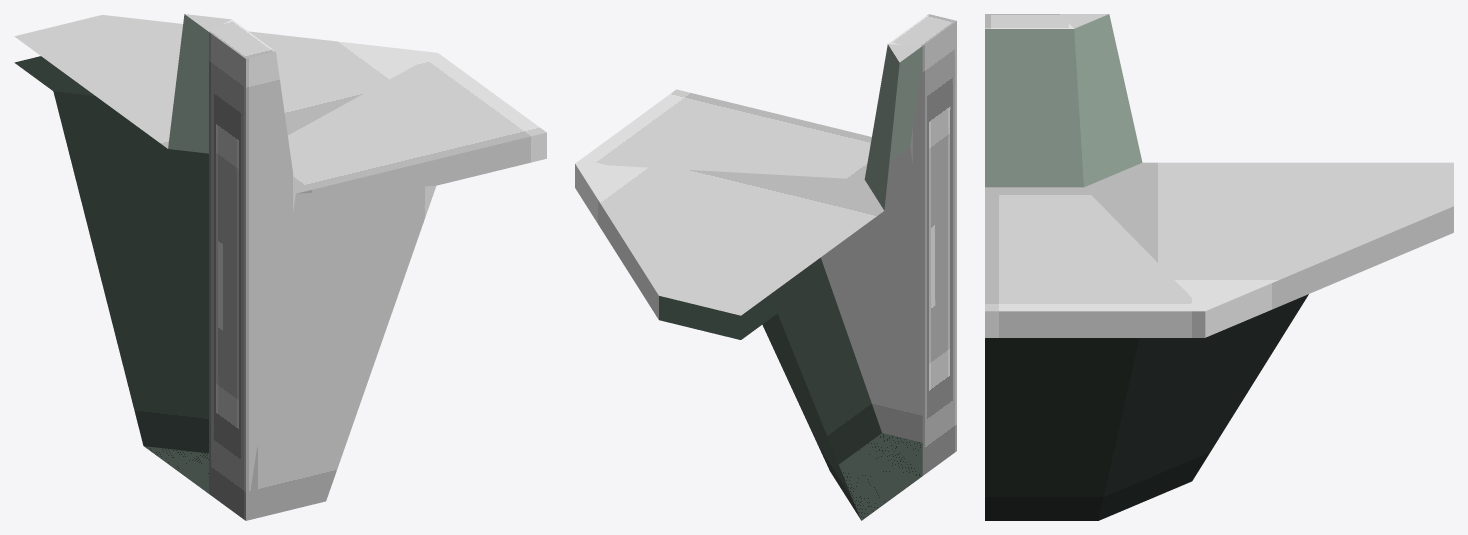
Rendered from desk_corner_outside_2_2_2.obj.
3 views of the same model, side by side, from view 1: azimuth 30°, elevation 25°; view 2: azimuth 150°, elevation 25°; view 3: azimuth 270°, elevation 25° (orthographic). The views are drawn at different scales.
Size of the model in its own units: 0.75 by 1.1 by 1.
